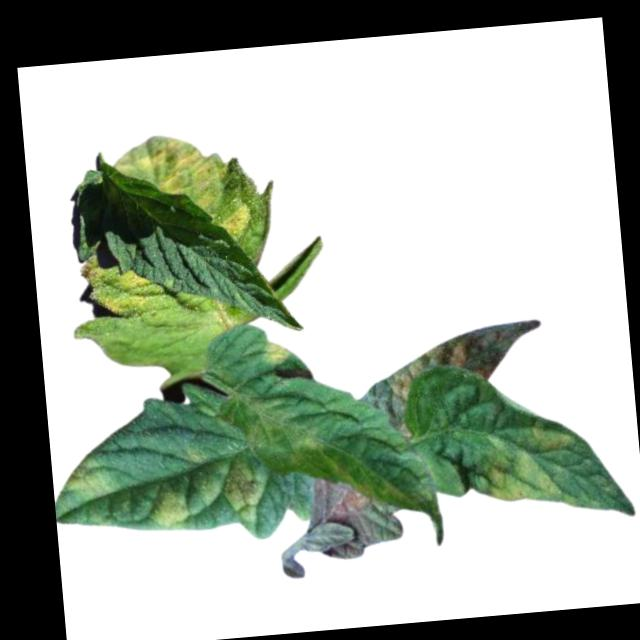Leaf_Mold: (355, 317, 552, 432), (111, 126, 253, 250), (474, 419, 583, 513), (302, 468, 406, 563), (75, 254, 150, 319), (211, 451, 265, 525), (143, 483, 194, 536), (58, 456, 108, 500), (259, 335, 289, 370)
